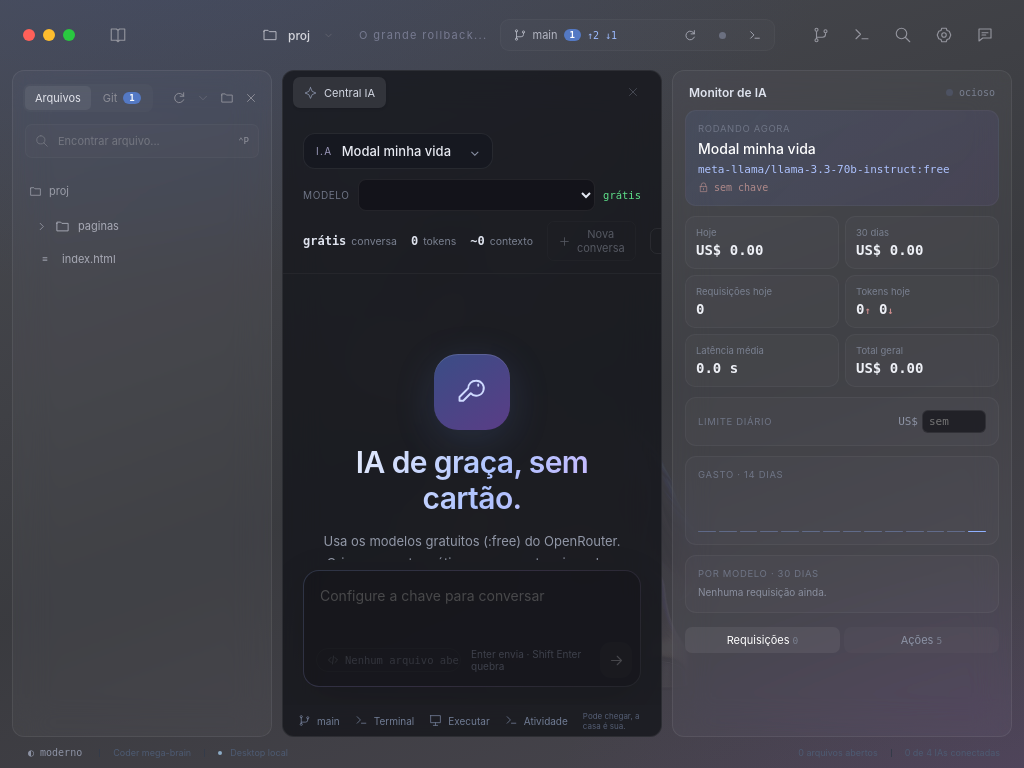
Test: App · modo instalado › Live Server sem HTML aberto usa index.html e mostra erros
Expected: the text "main" is shown, [532, 28, 558, 42]
Click the button "Live Server".
click(722, 35)  # box [710, 26, 735, 44]
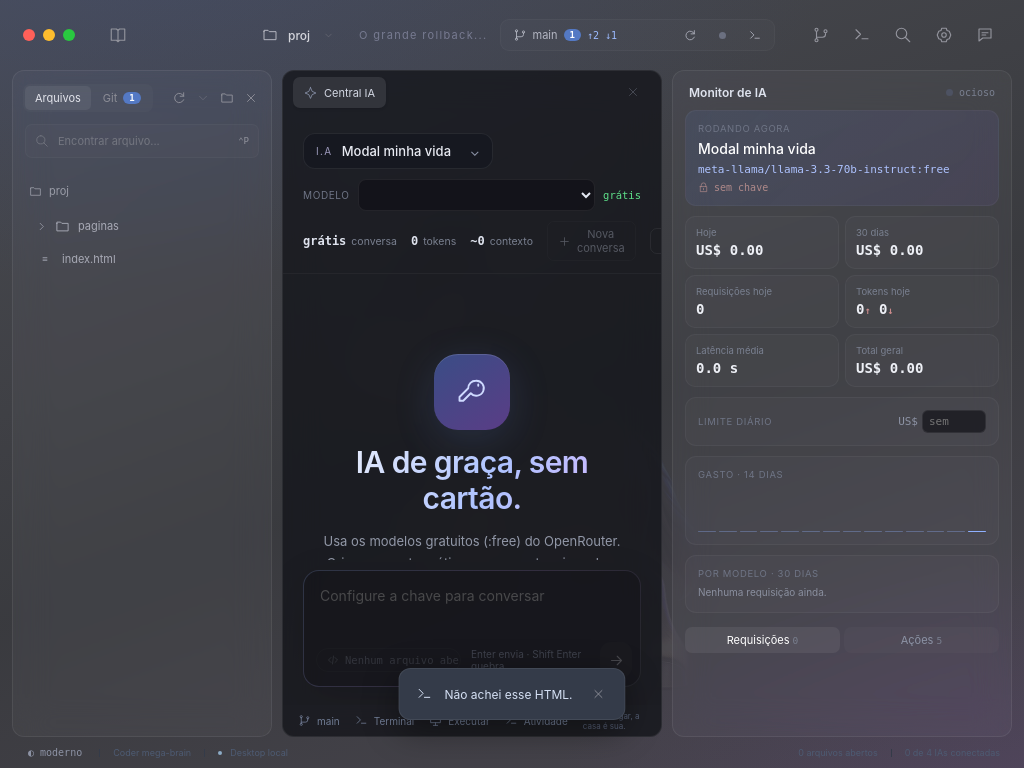
Expected: the text "Não achei esse HTML." is shown, [444, 686, 572, 702]
